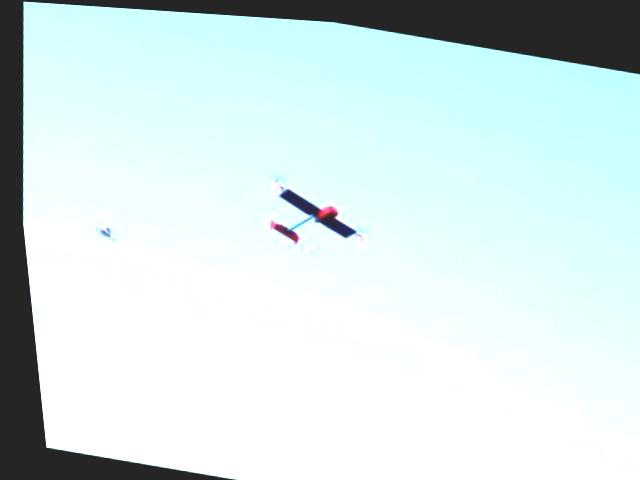uav: (251, 165, 375, 266)
